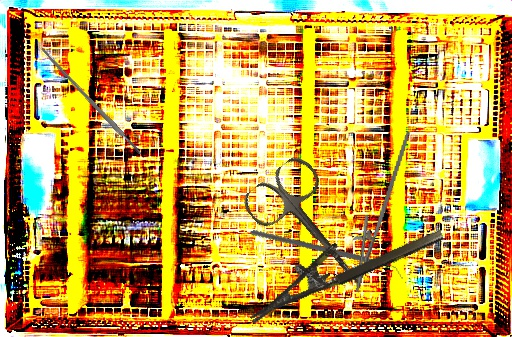Chopper: (249, 191, 404, 319)
Iris Scissors: (238, 151, 390, 312)
Needle Holder: (236, 203, 446, 324), (342, 125, 411, 297)
Scalpel Handle: (38, 45, 143, 157)
